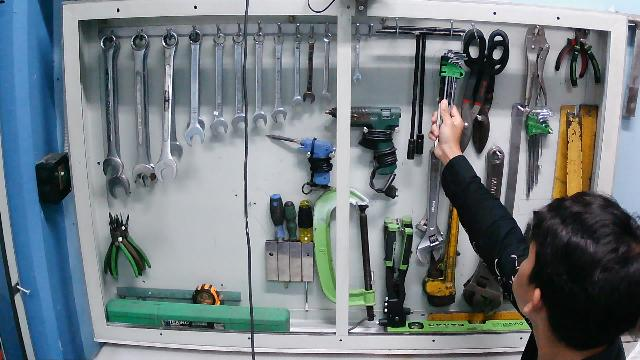kunci_l: (431, 47, 470, 155)
